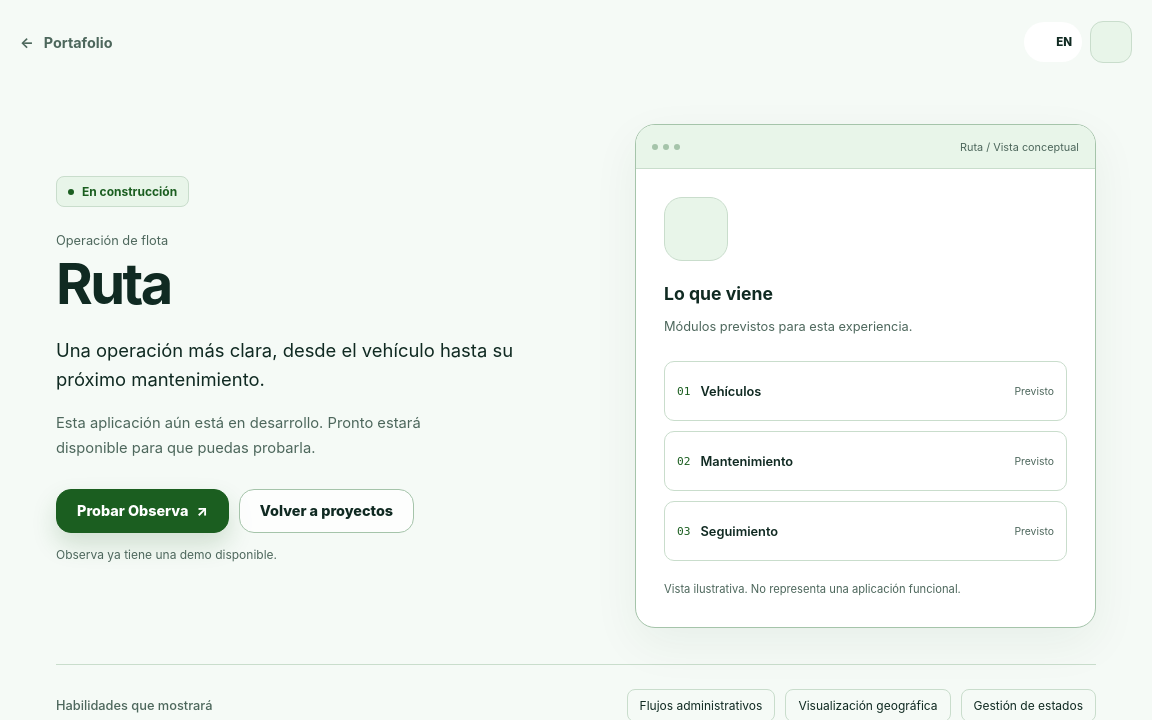
Test: proyectos en construcción › traduce el contenido de ruta y conserva la preferencia
Click the button with aria-label "Cambiar el idioma a inglés" at point(1053, 42), box left=1024, top=22, right=1082, bottom=62
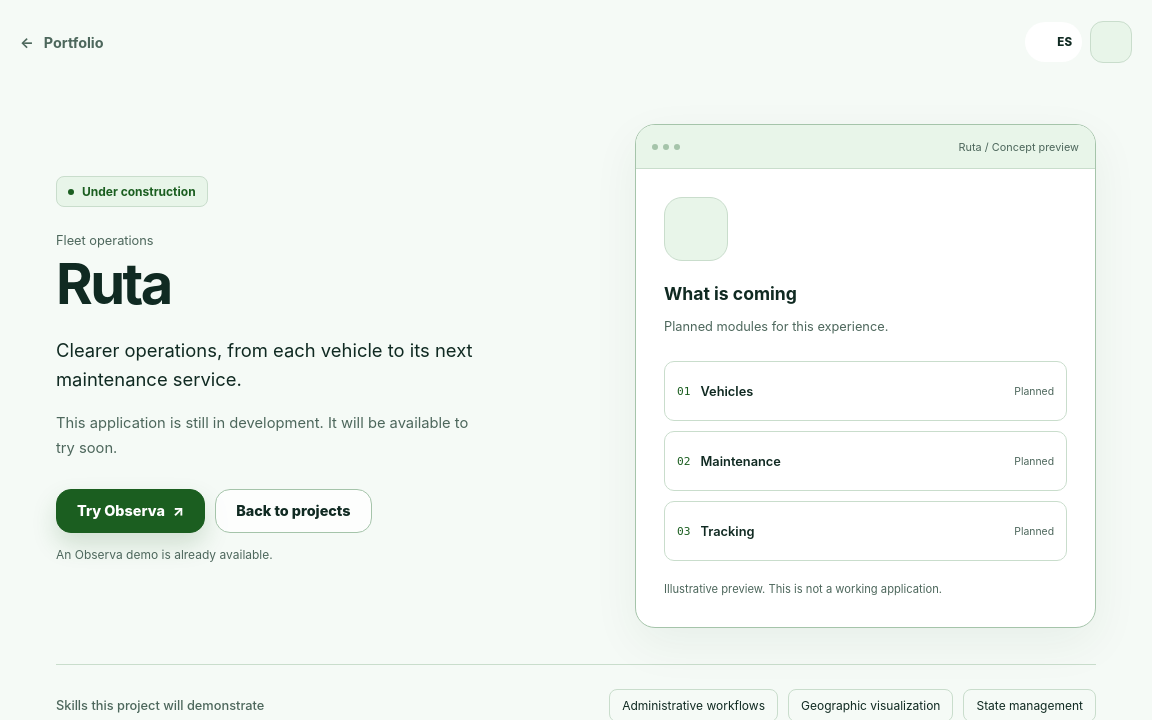
Expected: the text "Under construction" is shown, left=56, top=176, right=208, bottom=207
Expected: the text "It will be available to try soon" is shown, left=56, top=414, right=468, bottom=457
Expected: the text "En construcción" is gone
